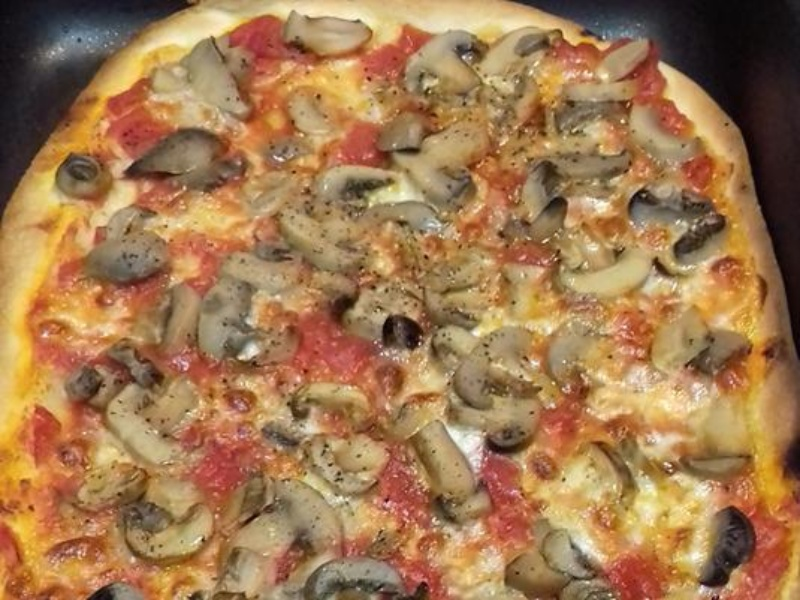champignon: (226, 477, 354, 567), (98, 374, 209, 470), (119, 494, 228, 570), (392, 26, 494, 100)
